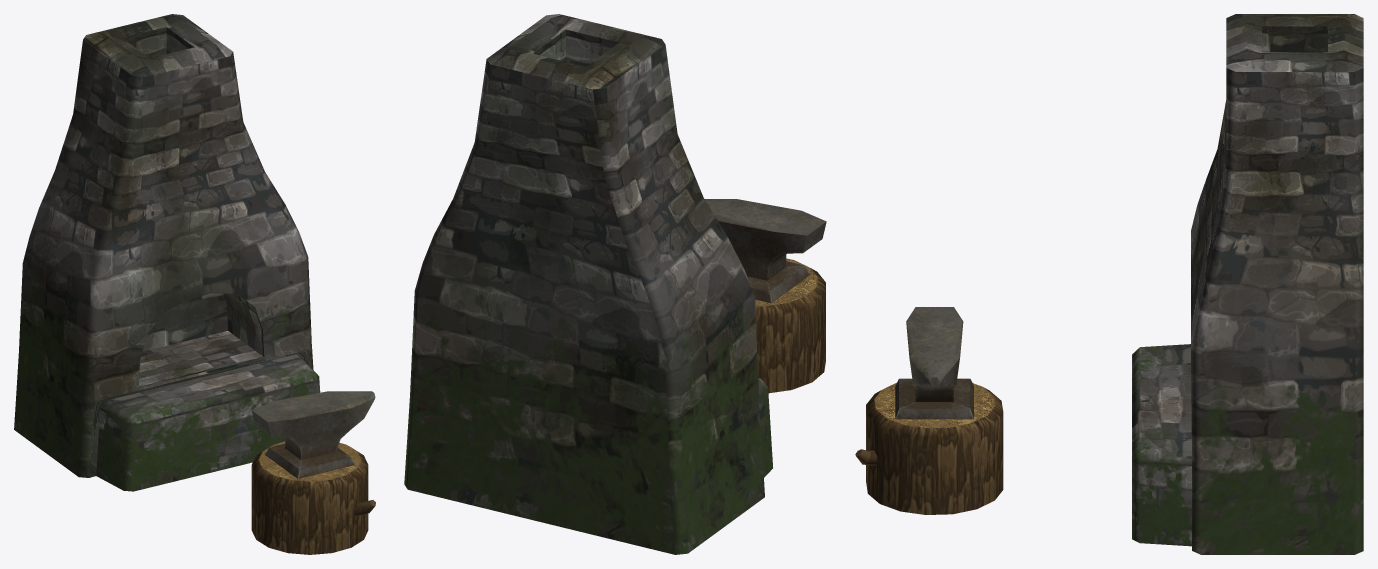
The model's file is smith.fbx.
The picture shows the model from 3 angles, left to right: view 1: azimuth 30°, elevation 25°; view 2: azimuth 150°, elevation 25°; view 3: azimuth 270°, elevation 25°; orthographic projection. The views are drawn at different scales.
Visible parts, largest first — view 1: furnace, anvil; view 2: furnace, anvil; view 3: furnace, anvil.
Boxes of the visible parts, x1,y1,x2,y2 form: furnace: (14,14,320,491); anvil: (251,391,375,554); furnace: (404,14,772,554); anvil: (705,199,826,393); furnace: (1132,14,1363,554); anvil: (855,307,1003,514).
Size of the model in its own units: 380 by 580 by 593.
